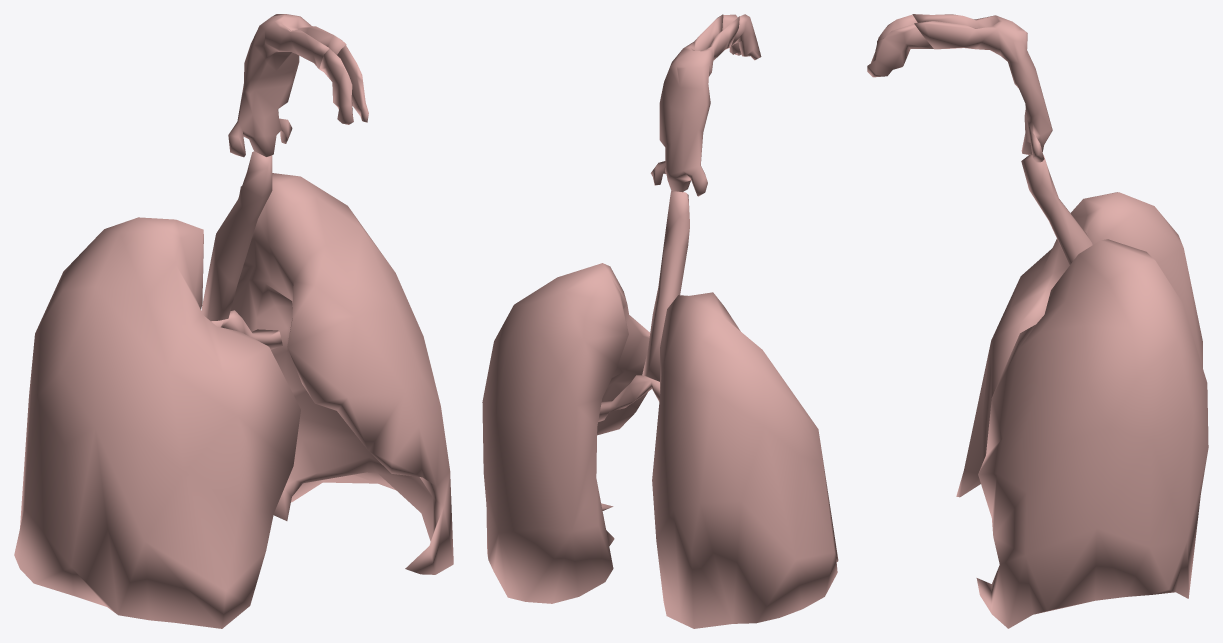
Rendered from icrp_adult_female.respiratory.LOD3.glb.
The picture shows the model from 3 angles, left to right: view 1: azimuth 30°, elevation 25°; view 2: azimuth 150°, elevation 25°; view 3: azimuth 270°, elevation 25°; orthographic projection. The views are drawn at different scales.
Visible parts, largest first — view 1: ICRP.ADULT.FEMALE.RESPIRATORY.LUNG.R, ICRP.ADULT.FEMALE.RESPIRATORY.LUNG.L, ICRP.ADULT.FEMALE.RESPIRATORY.EXTRATHORACIC_AIRWAY_ET2_POSTE, ICRP.ADULT.FEMALE.RESPIRATORY.TRACHEA, ICRP.ADULT.FEMALE.RESPIRATORY.EXTRATHORACIC_AIRWAY_ET1_ANTER, ICRP.ADULT.FEMALE.RESPIRATORY.BRONCHI_BB_REGION; view 2: ICRP.ADULT.FEMALE.RESPIRATORY.LUNG.R, ICRP.ADULT.FEMALE.RESPIRATORY.LUNG.L, ICRP.ADULT.FEMALE.RESPIRATORY.EXTRATHORACIC_AIRWAY_ET2_POSTE, ICRP.ADULT.FEMALE.RESPIRATORY.TRACHEA, ICRP.ADULT.FEMALE.RESPIRATORY.BRONCHI_BB_REGION, ICRP.ADULT.FEMALE.RESPIRATORY.EXTRATHORACIC_AIRWAY_ET1_ANTER; view 3: ICRP.ADULT.FEMALE.RESPIRATORY.LUNG.L, ICRP.ADULT.FEMALE.RESPIRATORY.LUNG.R, ICRP.ADULT.FEMALE.RESPIRATORY.EXTRATHORACIC_AIRWAY_ET2_POSTE, ICRP.ADULT.FEMALE.RESPIRATORY.TRACHEA, ICRP.ADULT.FEMALE.RESPIRATORY.EXTRATHORACIC_AIRWAY_ET1_ANTER.
Part boxes in pixels (x1=…): ICRP.ADULT.FEMALE.RESPIRATORY.LUNG.R: x1=14, y1=217, x2=300, y2=628; ICRP.ADULT.FEMALE.RESPIRATORY.LUNG.L: x1=230, y1=173, x2=453, y2=574; ICRP.ADULT.FEMALE.RESPIRATORY.EXTRATHORACIC_AIRWAY_ET2_POSTE: x1=228, y1=14, x2=346, y2=157; ICRP.ADULT.FEMALE.RESPIRATORY.TRACHEA: x1=201, y1=151, x2=272, y2=321; ICRP.ADULT.FEMALE.RESPIRATORY.EXTRATHORACIC_AIRWAY_ET1_ANTER: x1=319, y1=45, x2=368, y2=124; ICRP.ADULT.FEMALE.RESPIRATORY.BRONCHI_BB_REGION: x1=211, y1=310, x2=282, y2=349; ICRP.ADULT.FEMALE.RESPIRATORY.LUNG.R: x1=652, y1=292, x2=838, y2=628; ICRP.ADULT.FEMALE.RESPIRATORY.LUNG.L: x1=482, y1=263, x2=650, y2=603; ICRP.ADULT.FEMALE.RESPIRATORY.EXTRATHORACIC_AIRWAY_ET2_POSTE: x1=650, y1=14, x2=739, y2=196; ICRP.ADULT.FEMALE.RESPIRATORY.TRACHEA: x1=642, y1=191, x2=689, y2=381; ICRP.ADULT.FEMALE.RESPIRATORY.BRONCHI_BB_REGION: x1=598, y1=375, x2=659, y2=421; ICRP.ADULT.FEMALE.RESPIRATORY.EXTRATHORACIC_AIRWAY_ET1_ANTER: x1=722, y1=14, x2=761, y2=60; ICRP.ADULT.FEMALE.RESPIRATORY.LUNG.L: x1=976, y1=239, x2=1208, y2=628; ICRP.ADULT.FEMALE.RESPIRATORY.LUNG.R: x1=956, y1=192, x2=1202, y2=497; ICRP.ADULT.FEMALE.RESPIRATORY.EXTRATHORACIC_AIRWAY_ET2_POSTE: x1=912, y1=14, x2=1052, y2=162; ICRP.ADULT.FEMALE.RESPIRATORY.TRACHEA: x1=1021, y1=155, x2=1092, y2=265; ICRP.ADULT.FEMALE.RESPIRATORY.EXTRATHORACIC_AIRWAY_ET1_ANTER: x1=867, y1=15, x2=933, y2=77.
Bounding box in the file's own units: 0.2376 × 0.3499 × 0.2013.
